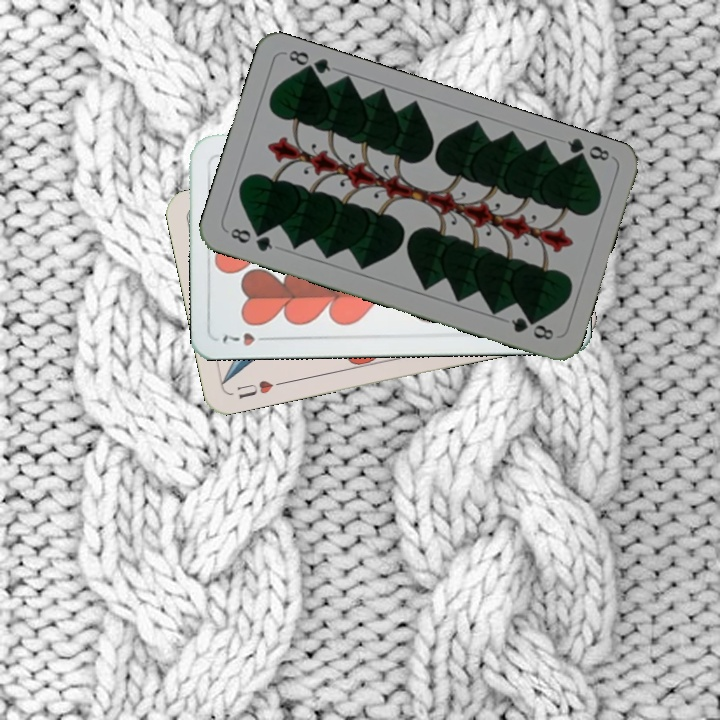G8: (563, 134, 612, 167), (226, 224, 275, 254)
H7: (219, 329, 275, 349)
HU: (232, 376, 287, 402)
